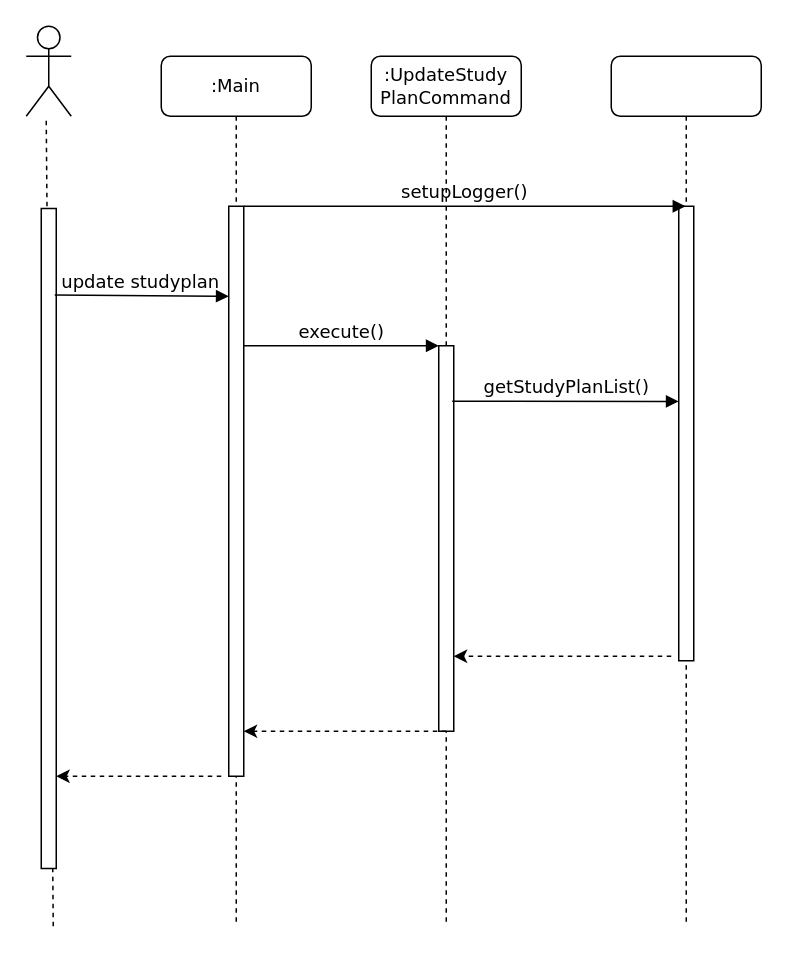
Image size: 788x954. Some labels were removed from this diagram. The box of each missing label's shape, as (x1, y1, x2, y2) in pixels:
:StudyPlanList: (610, 55, 761, 926)
Actor: (25, 25, 71, 116)
